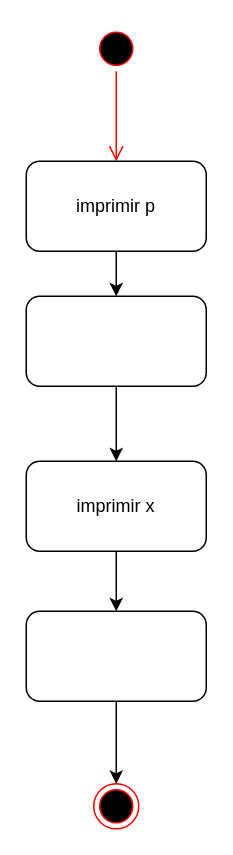
The diagram is 233 pixels wide and 855 high, and some of its shapes have lost their labels. Each missing label, with the centre of its shape:
"imprimir dof" belongs at (x=115, y=340).
"return;" belongs at (x=115, y=655).
